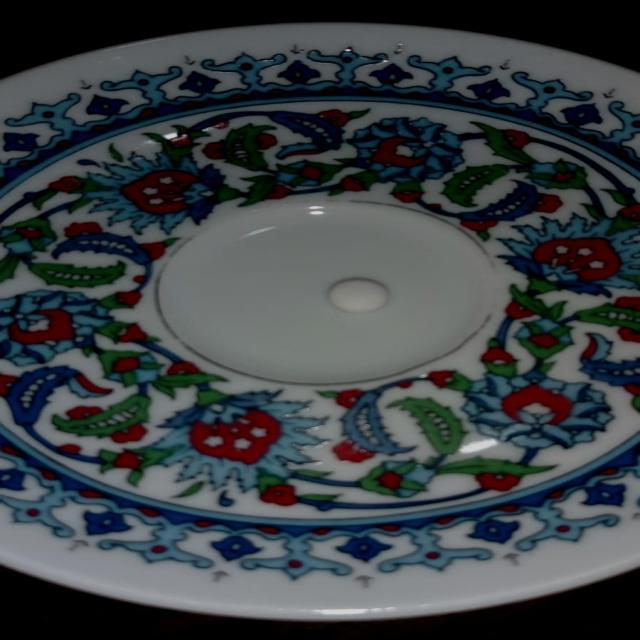pill: (318, 275, 392, 316)
